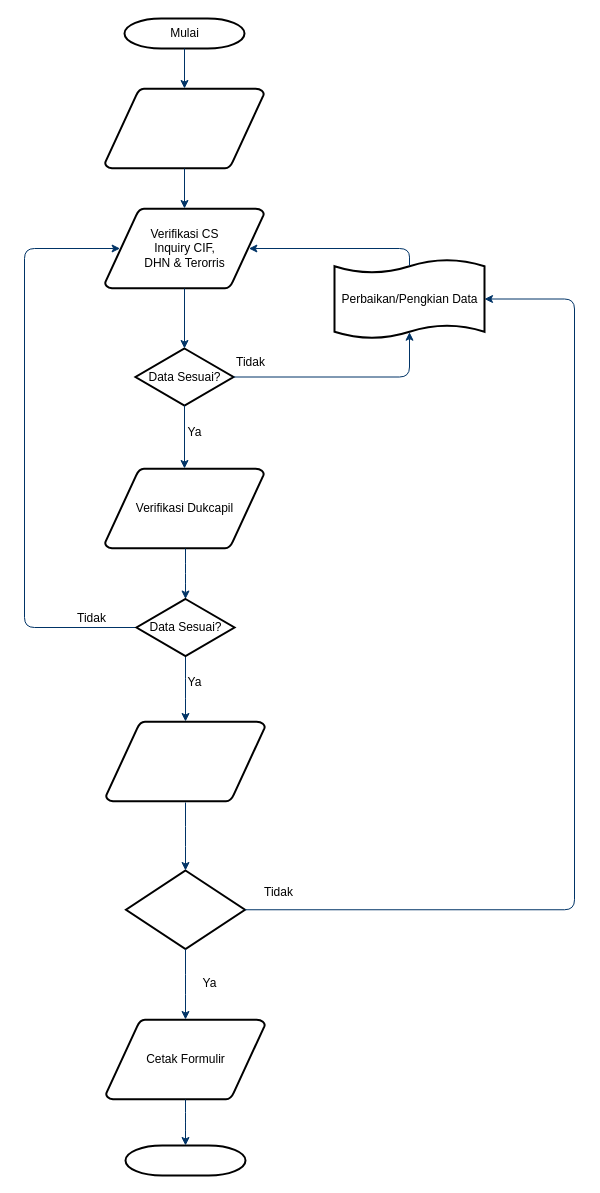
Image size: 600x1193. Some labels were removed from this diagram. Each missing label, with the centre of its shape:
Approval Supervisi: pixel 185 761
Create Rekening: pixel 185 909
Registrasi E-Form: pixel 184 128
Selesai: pixel 185 1160
